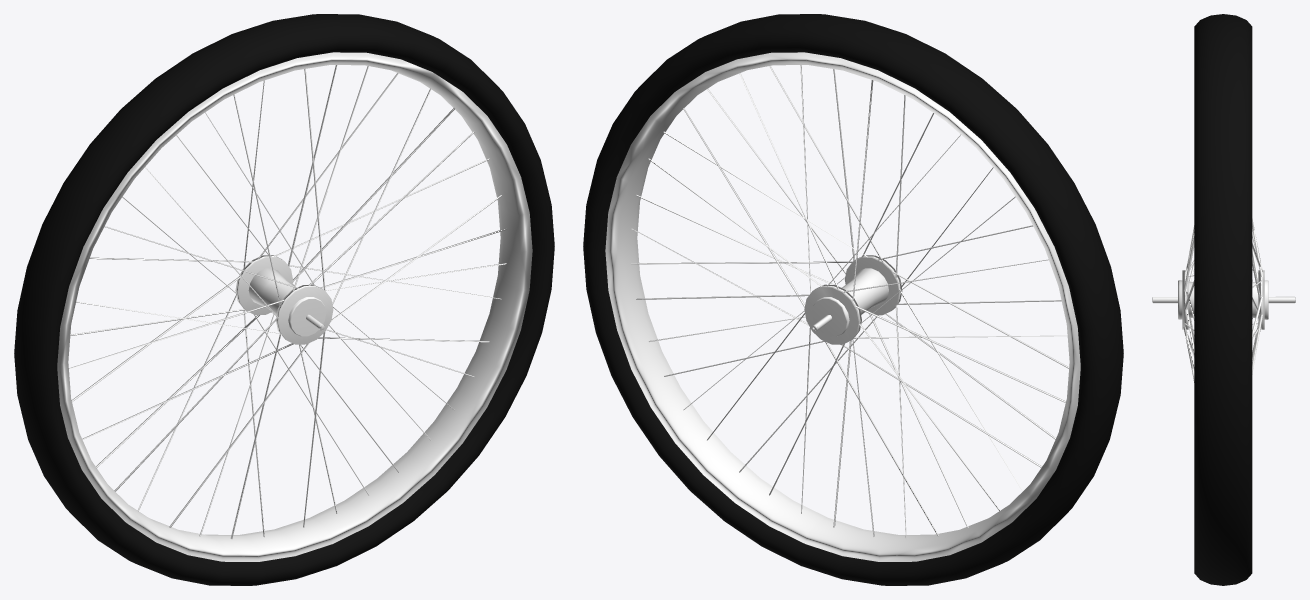
Rendered from Ring-transformed.glb.
The picture shows the model from 3 angles, left to right: view 1: azimuth 30°, elevation 25°; view 2: azimuth 150°, elevation 25°; view 3: azimuth 270°, elevation 25°; orthographic projection. The views are drawn at different scales.
Visible parts, largest first — view 1: Ring; view 2: Ring; view 3: Ring.
Boxes of the visible parts, bbox=[...] form: Ring: bbox=[14, 14, 554, 585]; Ring: bbox=[583, 14, 1123, 585]; Ring: bbox=[1152, 14, 1295, 585].
Size of the model in its own units: 0.2 by 0.2 by 0.05.
Materials: 2 (2 with a texture image).
